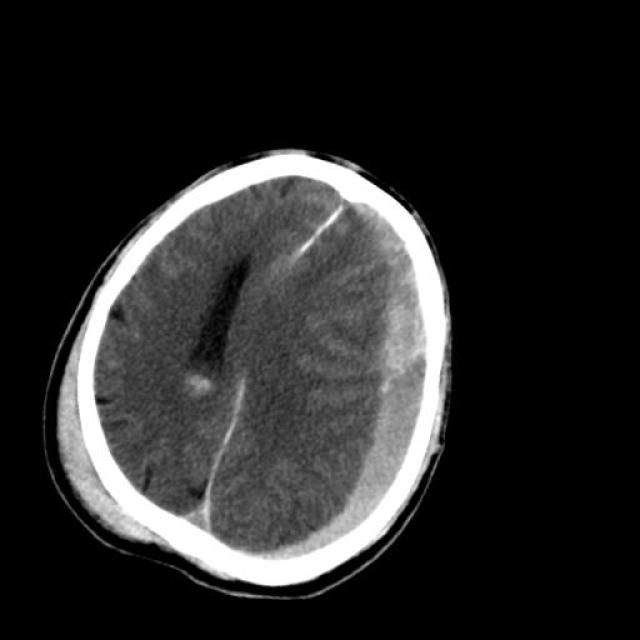Intraventricular: (170, 364, 238, 424)
Subdural: (241, 187, 478, 617)
